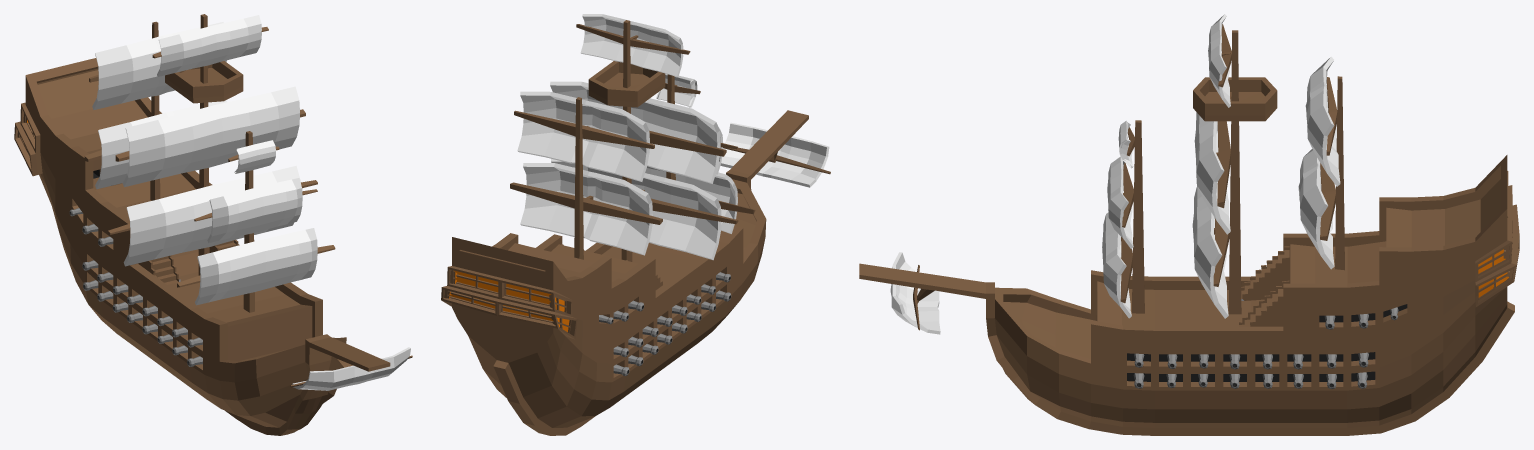
File: ship.fbx
3 views of the same model, side by side, from view 1: azimuth 30°, elevation 25°; view 2: azimuth 150°, elevation 25°; view 3: azimuth 270°, elevation 25° (orthographic). The views are drawn at different scales.
Visible parts, largest first — view 1: Cube; view 2: Cube; view 3: Cube.
Boxes of the visible parts, x1,y1,x2,y2 form: Cube: (14, 14, 412, 435); Cube: (441, 14, 830, 435); Cube: (859, 14, 1519, 435).
Size of the model in its own units: 402 by 691 by 1031.
Materials: 2 (2 with a texture image).
